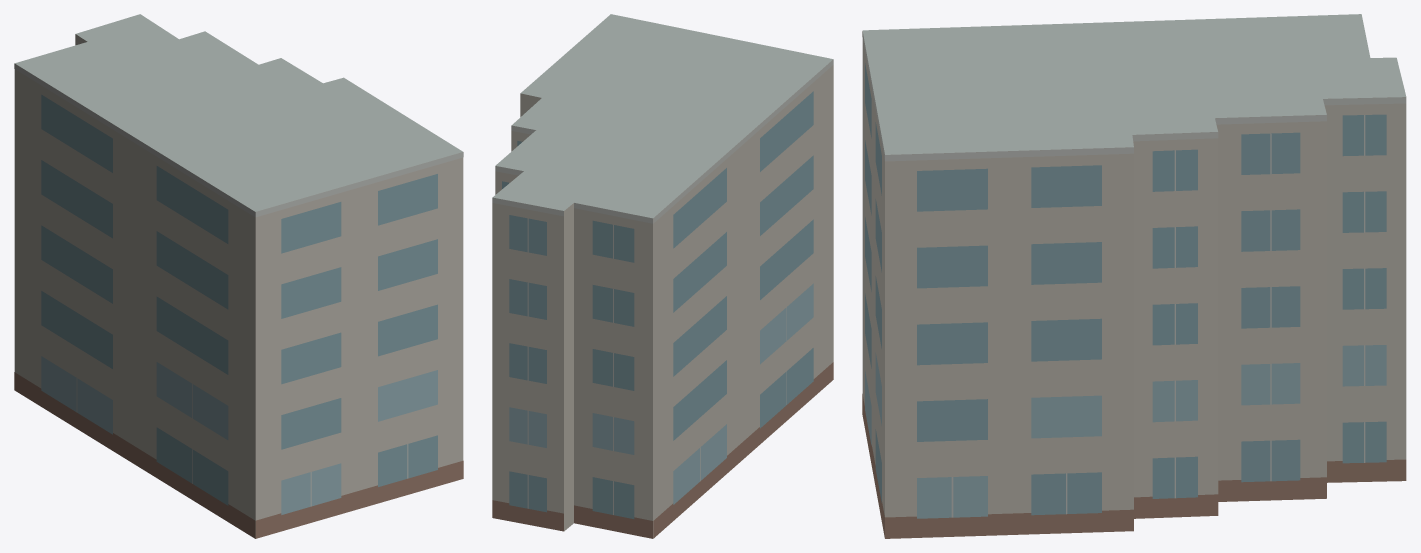
File: survey-upis-32529485.glb
3 views of the same model, side by side, from view 1: azimuth 30°, elevation 25°; view 2: azimuth 150°, elevation 25°; view 3: azimuth 270°, elevation 25° (orthographic). The views are drawn at different scales.
Parts seen in each view (by area): view 1: survey-upis-32529485.tmp; view 2: survey-upis-32529485.tmp; view 3: survey-upis-32529485.tmp.
Boxes of the visible parts, left/top/right/bottom form: survey-upis-32529485.tmp: left=14, top=14, right=463, bottom=538; survey-upis-32529485.tmp: left=492, top=14, right=833, bottom=538; survey-upis-32529485.tmp: left=862, top=14, right=1406, bottom=538.
Bounding box in the file's own units: 11.35 × 14.4 × 18.5.
